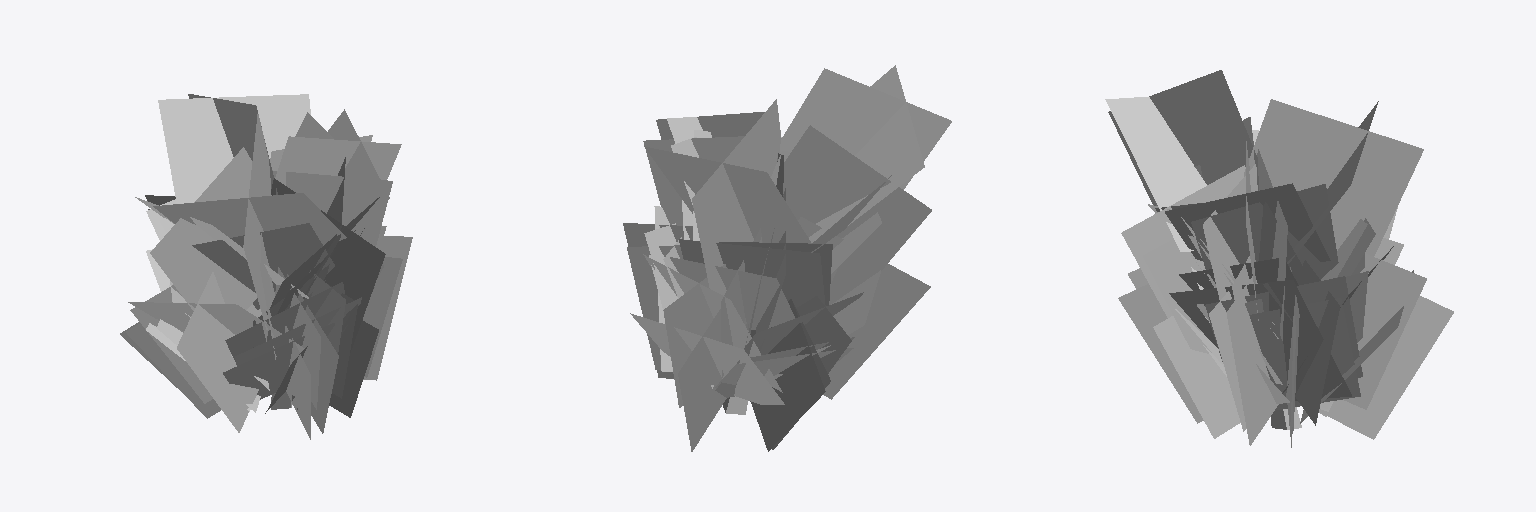
File: bush05.obj
The picture shows the model from 3 angles: view 1: azimuth 30°, elevation 25°; view 2: azimuth 150°, elevation 25°; view 3: azimuth 270°, elevation 25°; orthographic projection.
Visible parts, largest first — view 1: bush05; view 2: bush05; view 3: bush05.
Part boxes in pixels (bbox=[...]): bush05: bbox=[120, 94, 412, 439]; bush05: bbox=[623, 65, 951, 451]; bush05: bbox=[1105, 70, 1453, 447].
Size of the model in its own units: 0.8055 by 0.9841 by 0.899.